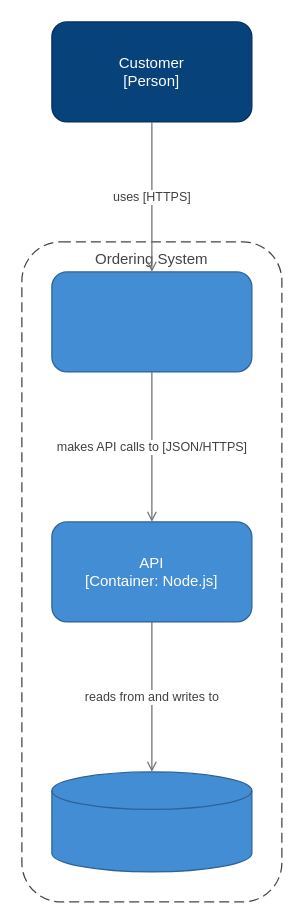
Image size: 304x924. Some labels were removed from this diagram. The centre of each missing label's shape, as x and y in pixels:
"Orders DB [Container: PostgreSQL]" belongs at [151,821].
"Web App [Container: React]" belongs at [151,321].
